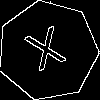X: (23, 25, 72, 81)
